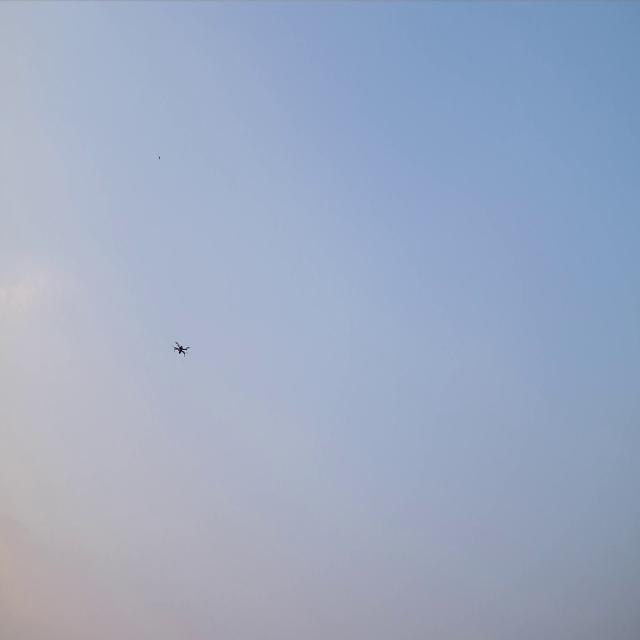UAV: (172, 338, 190, 357)
